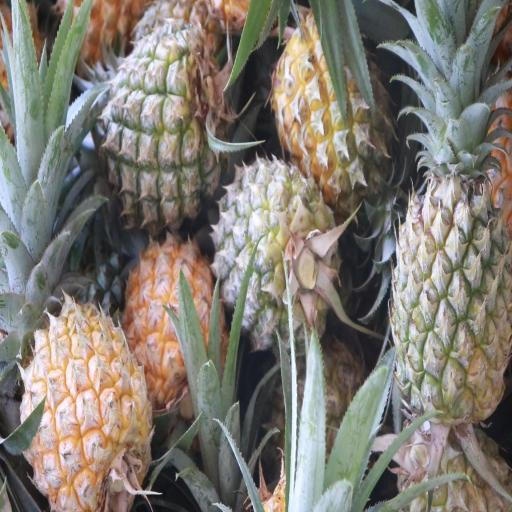------------------------------: (279, 15, 401, 202), (97, 35, 222, 214), (218, 165, 336, 350)
Pineapple - v8 v1: (23, 309, 154, 512), (128, 243, 226, 406)
